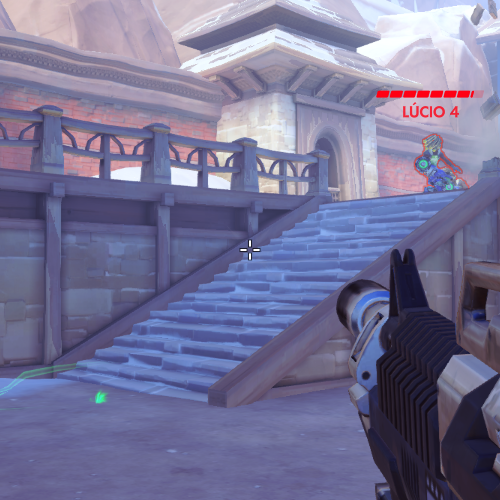hpbar: (376, 90, 485, 98)
